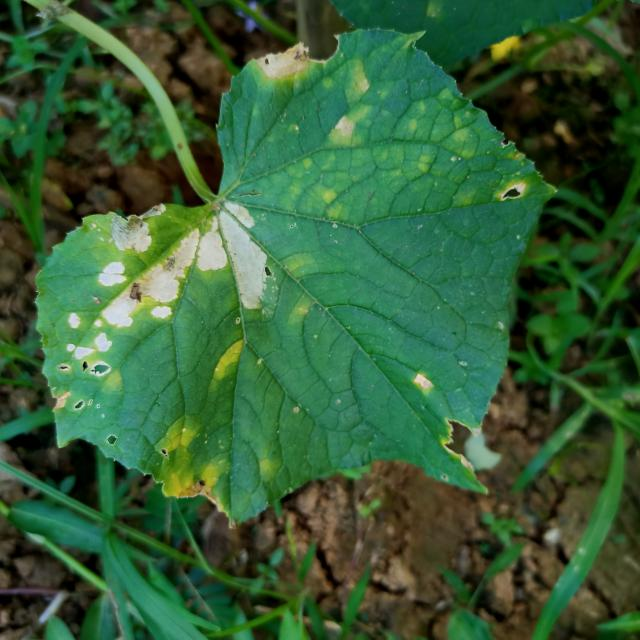disease_cucumber: (39, 191, 273, 403), (148, 415, 238, 506), (320, 64, 391, 169), (200, 335, 254, 389)
